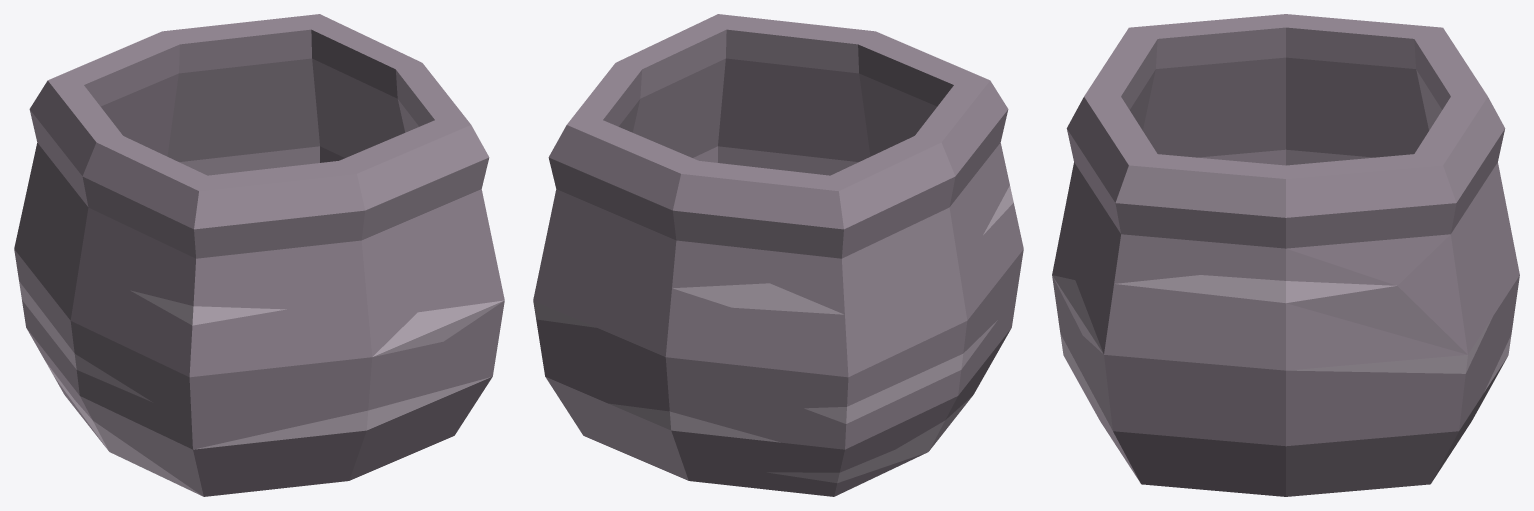
The model's file is SM_Prop_Basket_01.fbx.
3 views of the same model, side by side, from view 1: azimuth 30°, elevation 25°; view 2: azimuth 150°, elevation 25°; view 3: azimuth 270°, elevation 25° (orthographic). The views are drawn at different scales.
Parts seen in each view (by area): view 1: SM_Prop_Basket_01; view 2: SM_Prop_Basket_01; view 3: SM_Prop_Basket_01.
Boxes of the visible parts, x1,y1,x2,y2 form: SM_Prop_Basket_01: (14,14,504,496); SM_Prop_Basket_01: (533,14,1023,496); SM_Prop_Basket_01: (1052,14,1519,496).
Size of the model in its own units: 0.00347 by 0.00276 by 0.00359.
Materials: 1 (1 with a texture image).
